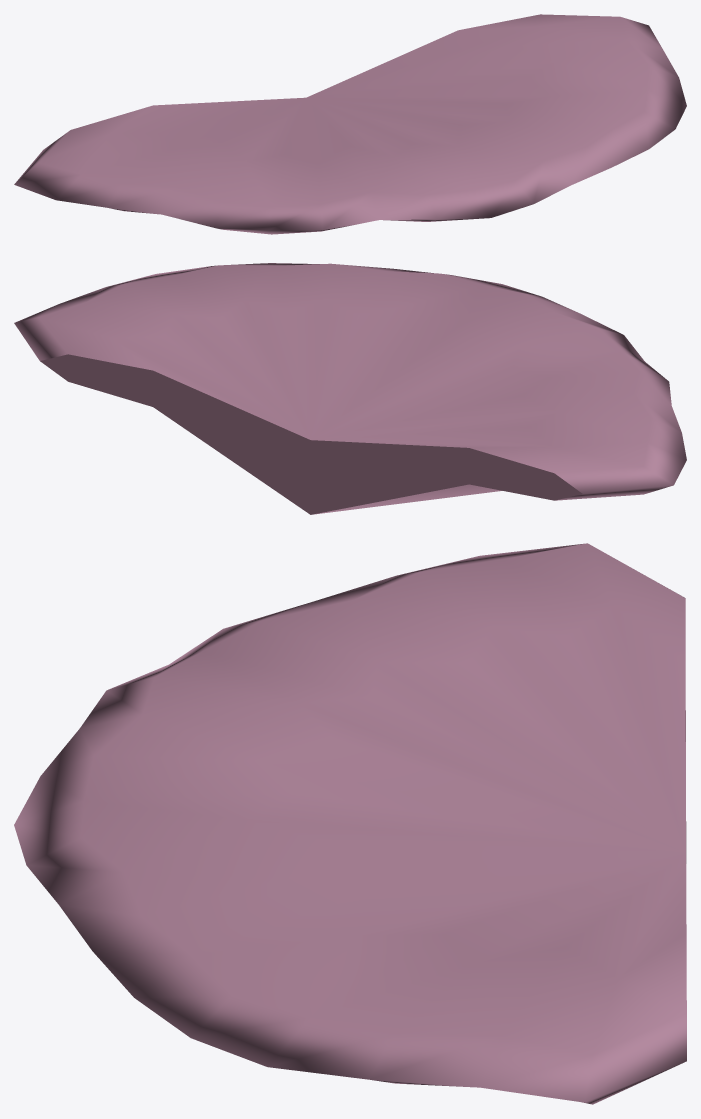
File: Platt_Korall.fbx
3 renders of one model, top to bottom at view 1: azimuth 30°, elevation 25°; view 2: azimuth 150°, elevation 25°; view 3: azimuth 270°, elevation 25°, orthographic. The views are drawn at different scales.
Parts seen in each view (by area): view 1: pCylinder2; view 2: pCylinder2; view 3: pCylinder2.
Boxes of the visible parts, x1,y1,x2,y2 form: pCylinder2: (14, 14, 686, 234); pCylinder2: (14, 263, 686, 514); pCylinder2: (14, 543, 686, 1104).
Bounding box in the file's own units: 5 × 0.8191 × 2.52.
